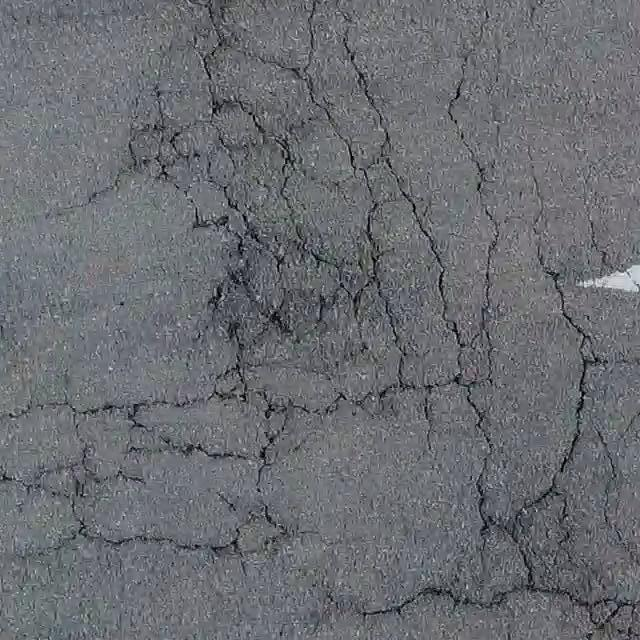GRIETA: (46, 165, 131, 214)
PIEL DE COCODRILO: (0, 0, 639, 639)
